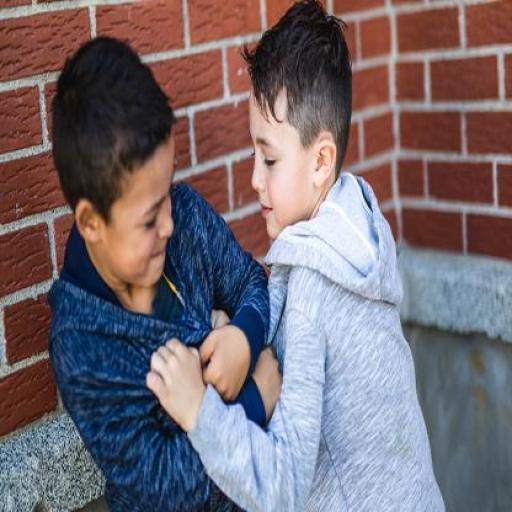Fighting: (28, 0, 443, 512)
